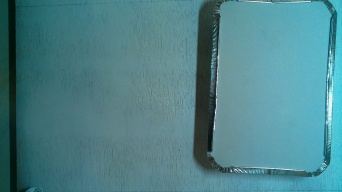f: (206, 1, 330, 177)
